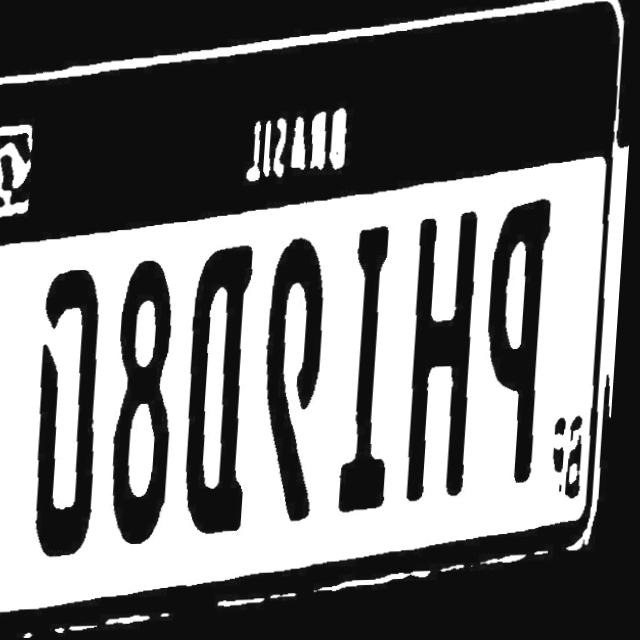0: (37, 269, 116, 566)
8: (107, 256, 191, 548)
9: (251, 244, 344, 530)
d: (179, 242, 269, 534)
h: (400, 208, 494, 509)
i: (324, 217, 410, 514)
p: (480, 198, 562, 499)
